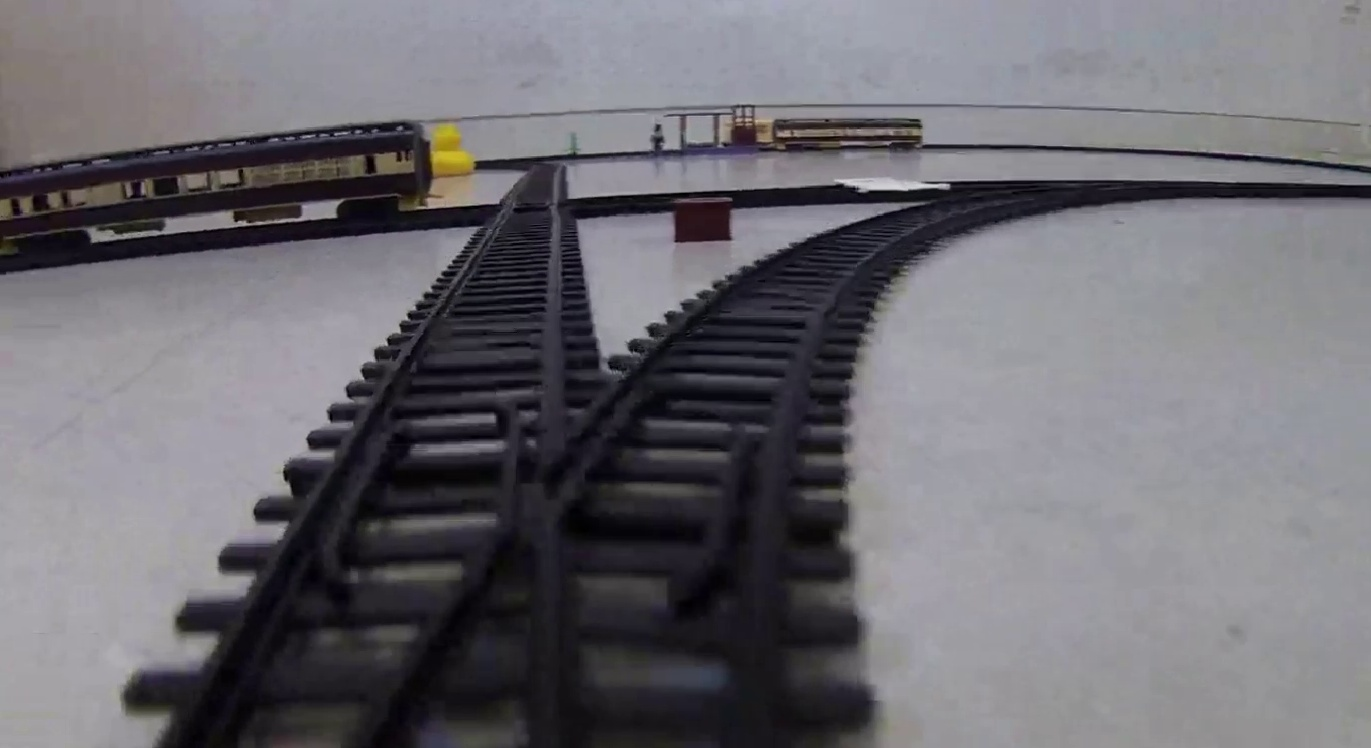box: (672, 199, 734, 240)
web: (833, 174, 949, 194)
